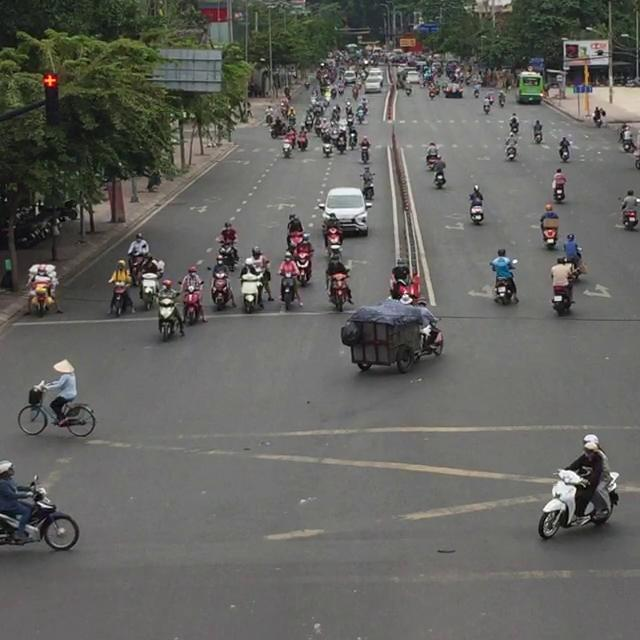Motorcycle: (0, 472, 79, 553), (537, 467, 620, 540), (155, 290, 185, 341), (489, 259, 519, 305), (549, 270, 577, 316), (414, 318, 444, 360), (238, 268, 265, 314), (208, 265, 235, 310), (326, 267, 353, 312), (27, 274, 55, 317), (180, 280, 206, 325), (277, 269, 303, 311), (108, 281, 134, 317), (559, 246, 586, 280), (138, 271, 161, 310), (292, 247, 314, 286), (617, 196, 639, 230), (539, 215, 559, 250), (217, 240, 238, 271), (129, 253, 147, 286), (324, 228, 343, 259), (389, 275, 410, 299), (468, 195, 484, 224), (359, 173, 375, 199), (431, 162, 446, 189), (286, 230, 304, 252), (552, 178, 566, 202), (327, 240, 343, 260), (558, 138, 571, 162), (321, 132, 333, 157), (335, 129, 347, 154), (269, 121, 285, 139), (425, 150, 439, 170), (504, 139, 516, 161), (281, 136, 293, 158), (296, 129, 308, 151), (285, 127, 296, 149), (592, 110, 604, 128), (360, 144, 370, 164), (532, 126, 543, 143), (482, 96, 492, 114), (314, 116, 323, 136), (264, 105, 273, 124), (304, 111, 313, 130), (355, 107, 365, 124), (509, 119, 519, 135), (349, 129, 357, 149), (279, 99, 288, 116), (622, 139, 632, 153), (287, 113, 296, 127), (498, 91, 505, 107), (346, 111, 354, 125), (485, 92, 494, 103), (473, 85, 480, 98)
